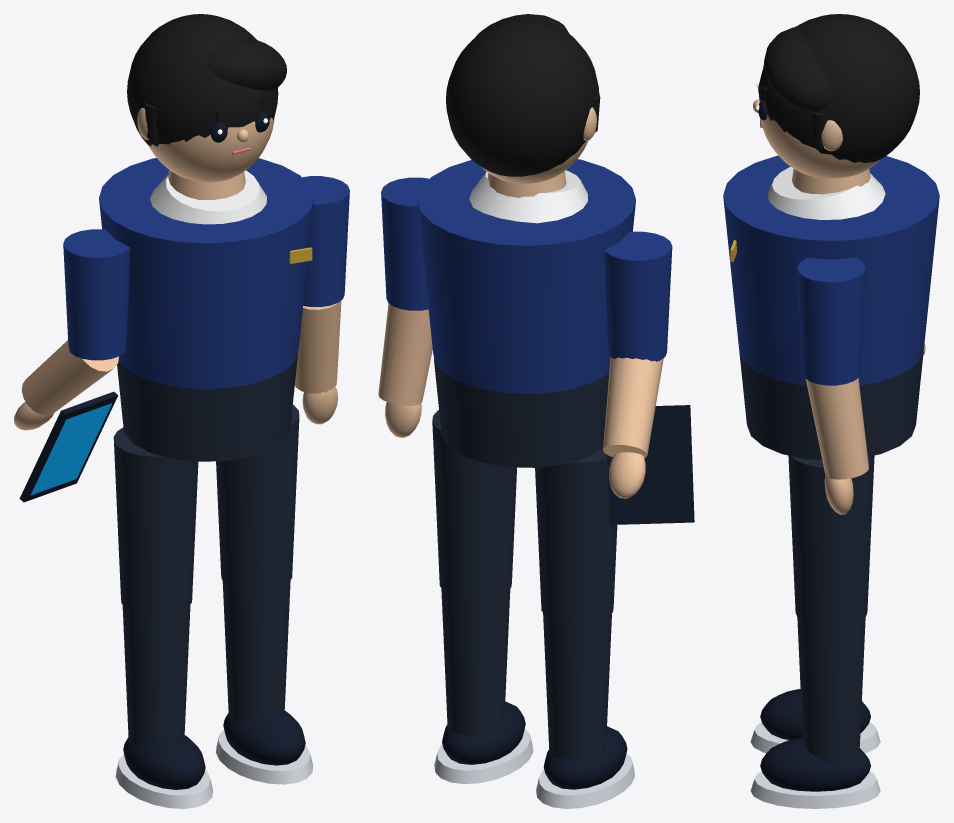
Rendered from ShiftSync_Manager.glb.
3 renders of one model, left to right at view 1: azimuth 30°, elevation 25°; view 2: azimuth 150°, elevation 25°; view 3: azimuth 270°, elevation 25°, orthographic.
Visible parts, largest first — view 1: Chest, LeftHip, Pelvis, Hair_Crown, RightHip, LeftKnee, RightKnee, L_UpperArm, LeftAnkle, RightAnkle, R_UpperArm, LeftWrist (+8 smaller); view 2: Chest, Hair_Crown, Pelvis, LeftHip, RightHip, RightKnee, LeftKnee, L_UpperArm, LeftWrist, R_UpperArm, RightAnkle, LeftAnkle (+7 smaller); view 3: Chest, Hair_Crown, RightHip, Pelvis, RightKnee, R_UpperArm, RightAnkle, R_Forearm, Manager_PartR, Collar, LeftAnkle, Head_Cranium (+4 smaller).
Part boxes in pixels (bbox=[...]): Chest: bbox=[99, 158, 314, 388]; LeftHip: bbox=[113, 427, 198, 615]; Pelvis: bbox=[117, 353, 297, 461]; Hair_Crown: bbox=[127, 14, 278, 146]; RightHip: bbox=[216, 405, 299, 590]; LeftKnee: bbox=[122, 605, 190, 746]; RightKnee: bbox=[222, 580, 290, 721]; L_UpperArm: bbox=[63, 229, 129, 360]; LeftAnkle: bbox=[115, 735, 212, 808]; RightAnkle: bbox=[215, 710, 313, 784]; R_UpperArm: bbox=[302, 176, 349, 306]; LeftWrist: bbox=[19, 391, 118, 502]; Chest: bbox=[417, 159, 635, 393]; Hair_Crown: bbox=[446, 18, 599, 176]; Pelvis: bbox=[434, 357, 609, 467]; LeftHip: bbox=[535, 447, 617, 623]; RightHip: bbox=[432, 410, 516, 599]; RightKnee: bbox=[441, 588, 510, 737]; LeftKnee: bbox=[543, 613, 611, 762]; L_UpperArm: bbox=[604, 231, 672, 361]; LeftWrist: bbox=[605, 405, 694, 524]; R_UpperArm: bbox=[381, 177, 429, 310]; RightAnkle: bbox=[434, 701, 533, 783]; LeftAnkle: bbox=[536, 726, 634, 808]; Chest: bbox=[723, 155, 939, 385]; Hair_Crown: bbox=[758, 14, 919, 162]; RightHip: bbox=[788, 455, 874, 627]; Pelvis: bbox=[739, 349, 923, 460]; RightKnee: bbox=[797, 617, 865, 764]; R_UpperArm: bbox=[797, 258, 865, 385]; RightAnkle: bbox=[750, 737, 880, 808]; R_Forearm: bbox=[806, 378, 868, 479]; Manager_PartR: bbox=[764, 27, 832, 111]; Collar: bbox=[767, 166, 885, 219]; LeftAnkle: bbox=[750, 689, 880, 753]; Head_Cranium: bbox=[759, 98, 880, 178].
Size of the model in its own units: 0.6898 by 1.56 by 0.41.
